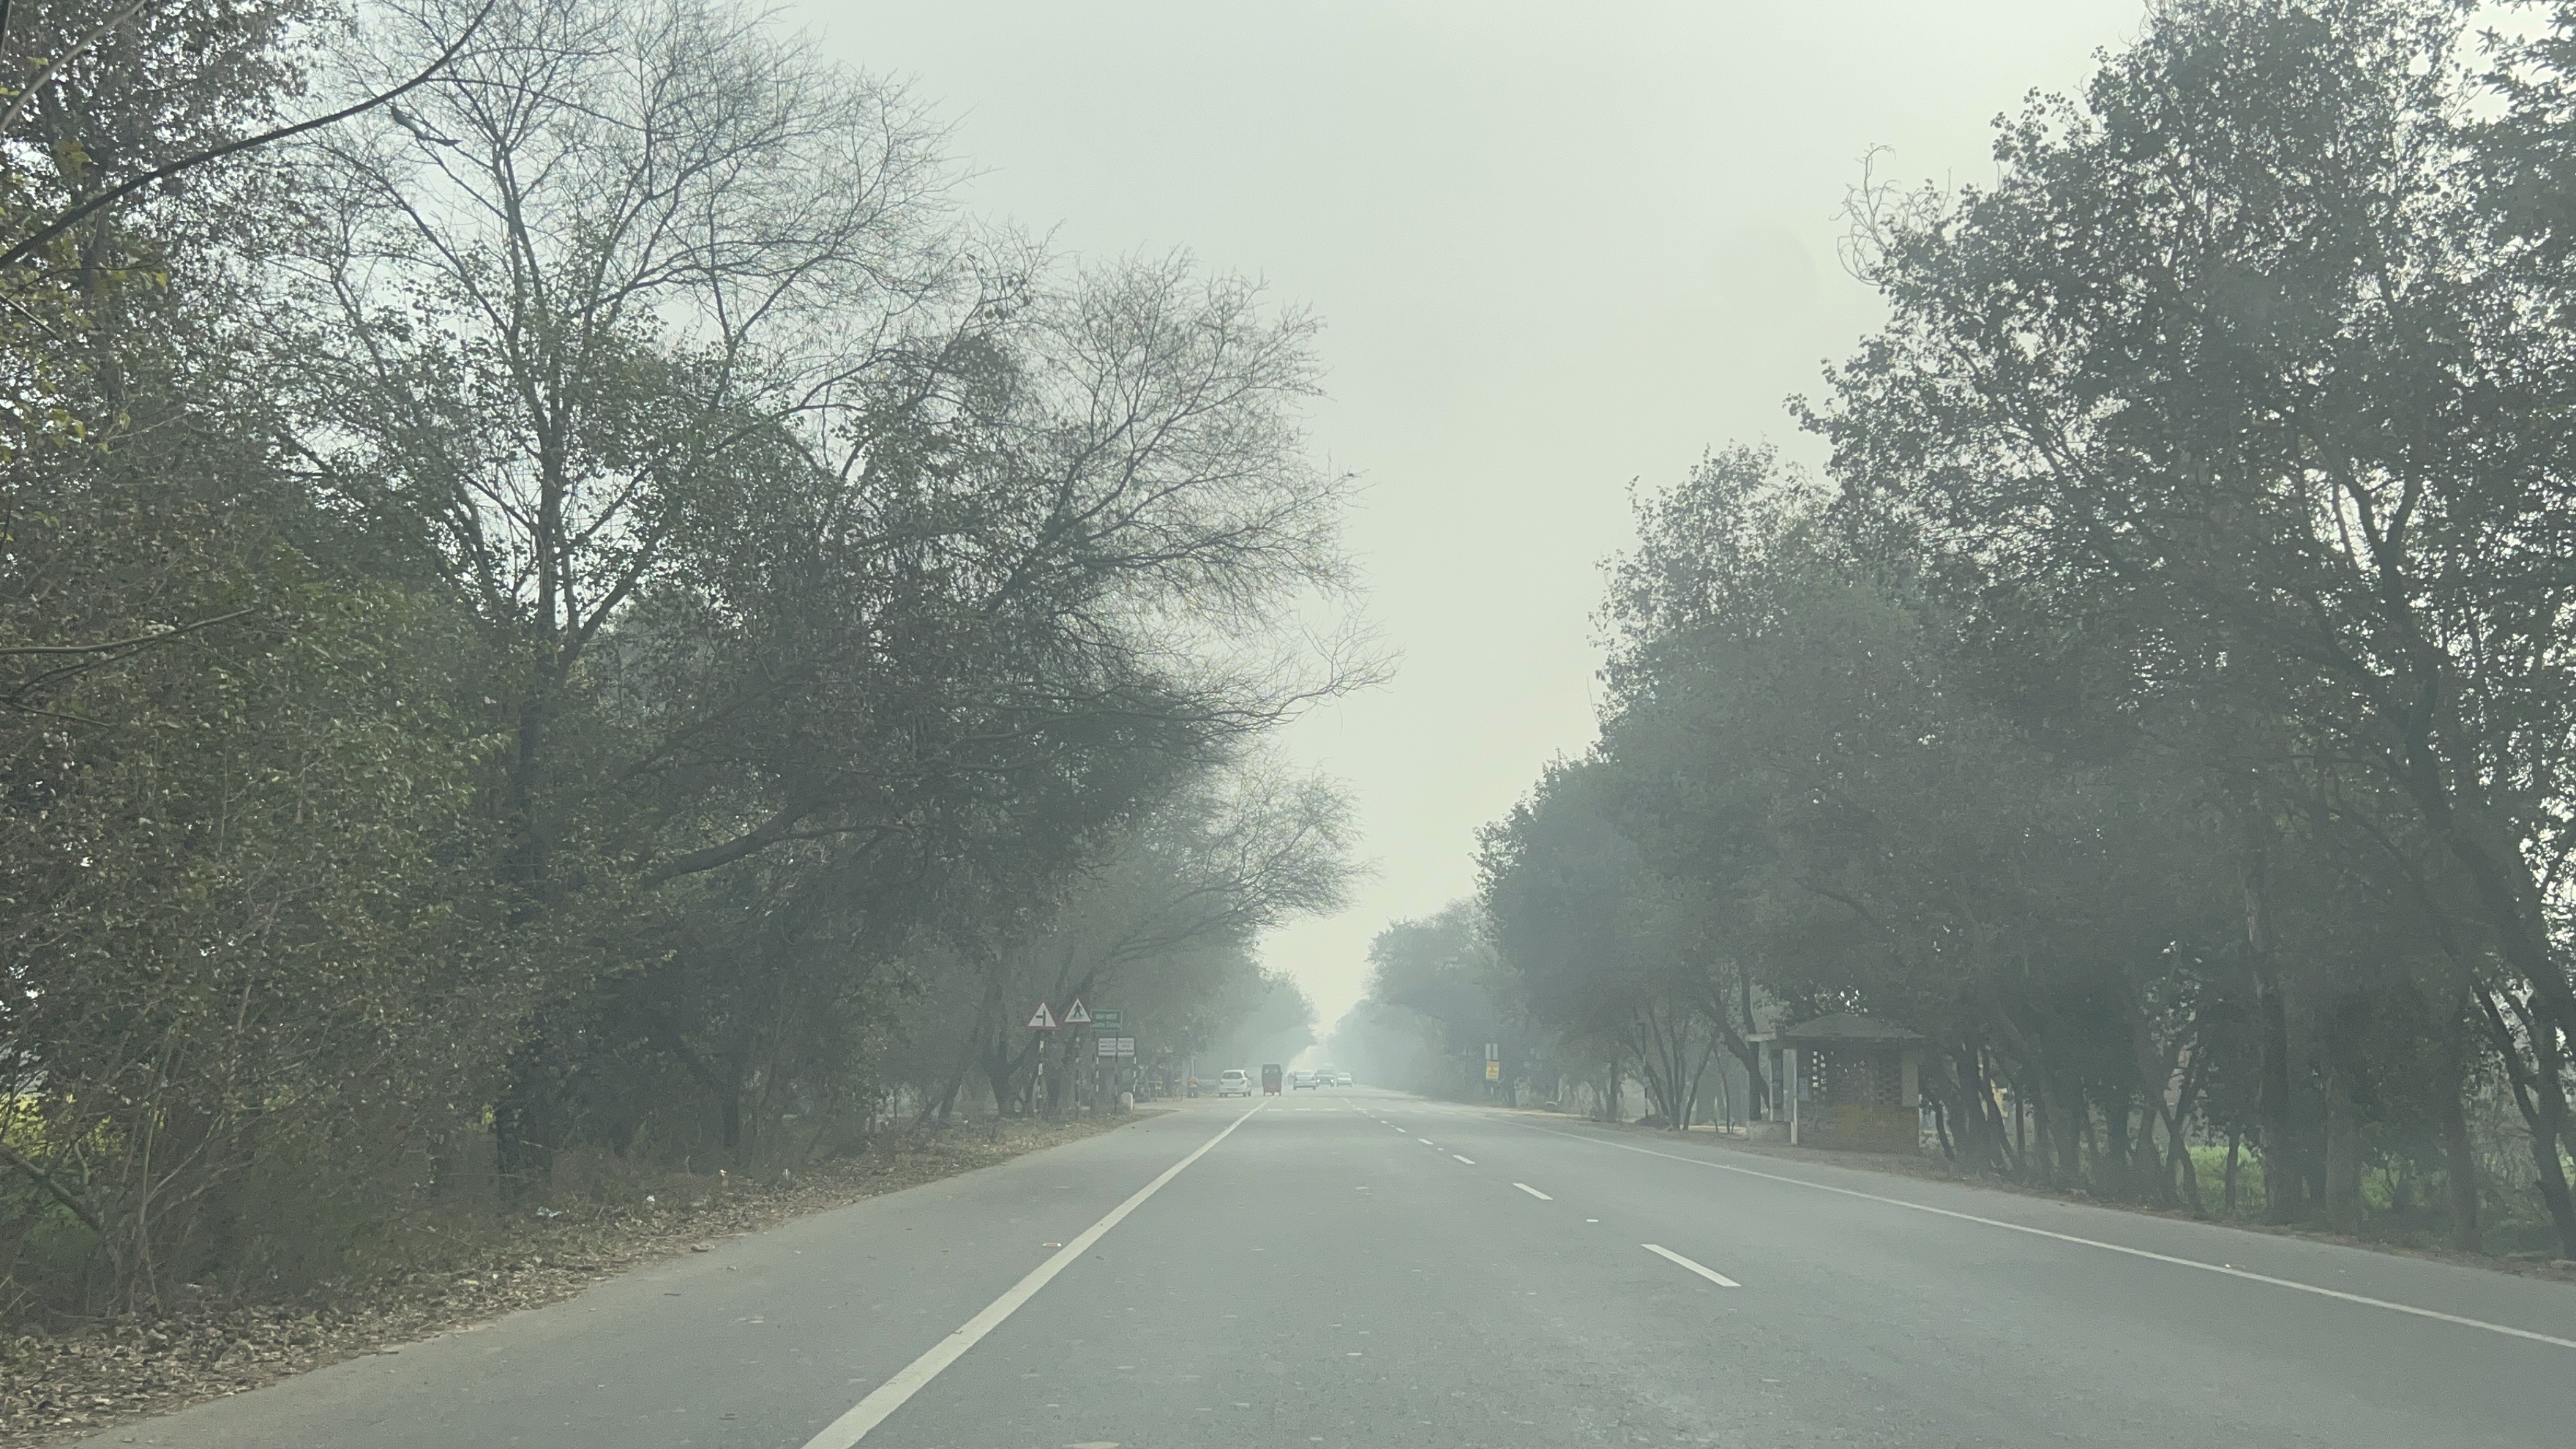Warning: (1016, 993, 1063, 1035), (1058, 985, 1097, 1031)
